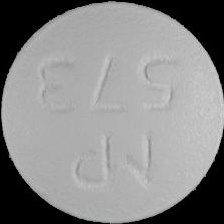54868-5269: (0, 0, 224, 224)
